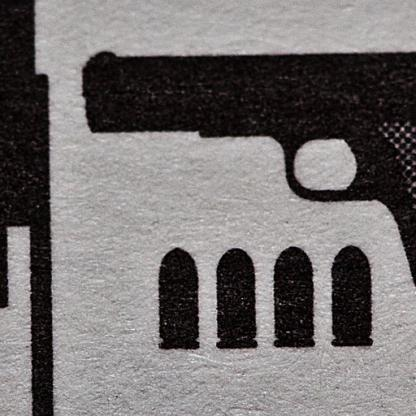gun: (81, 40, 415, 340)
